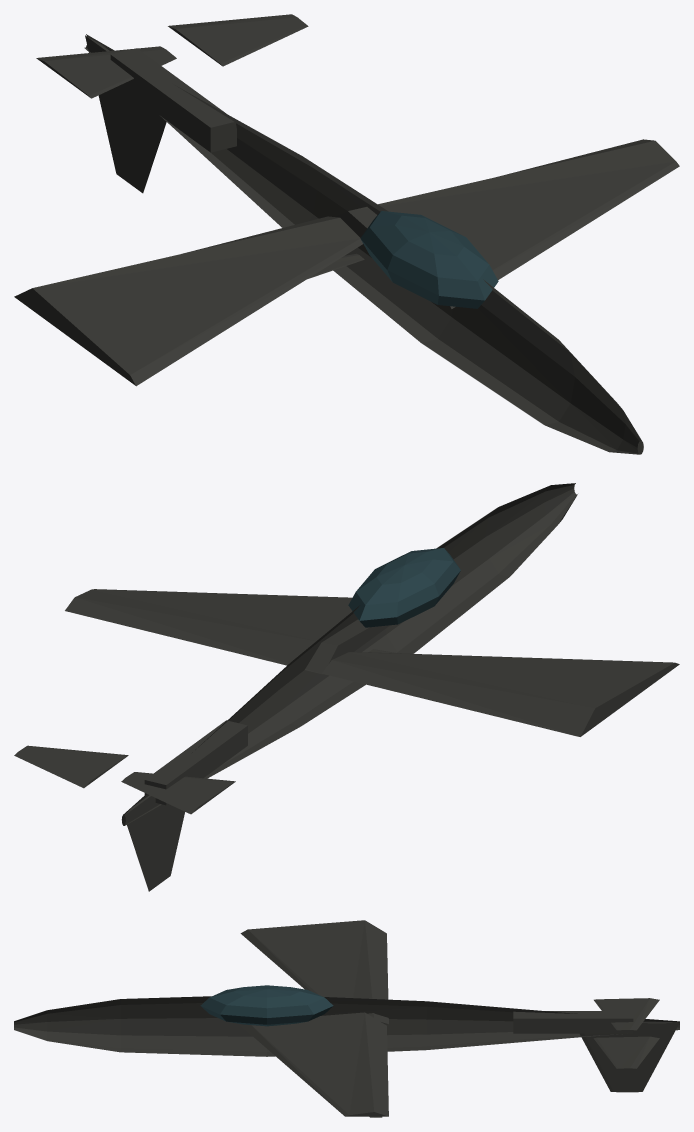
Rendered from f35_Destroyed.glb.
The picture shows the model from 3 angles, top to bottom: view 1: azimuth 30°, elevation 25°; view 2: azimuth 150°, elevation 25°; view 3: azimuth 270°, elevation 25°; orthographic projection. The views are drawn at different scales.
Parts seen in each view (by area): view 1: Fuselage, Wing_L, Wing_R, Cockpit, TailBoom, Rudder, Elevator_R, Elevator_L; view 2: Fuselage, Wing_L, Wing_R, Cockpit, Rudder, TailBoom, Elevator_R, Elevator_L; view 3: Fuselage, Wing_R, Wing_L, Cockpit, Rudder, TailBoom, Elevator_R, Elevator_L.
Part boxes in pixels (bbox=[...]): Fuselage: bbox=[84, 34, 643, 454]; Wing_L: bbox=[14, 216, 362, 386]; Wing_R: bbox=[335, 139, 679, 308]; Cockpit: bbox=[360, 211, 498, 308]; TailBoom: bbox=[110, 48, 236, 152]; Rudder: bbox=[85, 35, 166, 193]; Elevator_R: bbox=[168, 14, 308, 66]; Elevator_L: bbox=[36, 46, 176, 98]; Fuselage: bbox=[121, 483, 577, 825]; Wing_L: bbox=[322, 652, 679, 736]; Wing_R: bbox=[65, 589, 389, 674]; Cockpit: bbox=[348, 548, 460, 627]; Rudder: bbox=[124, 795, 184, 891]; TailBoom: bbox=[144, 720, 247, 805]; Elevator_R: bbox=[14, 745, 128, 788]; Elevator_L: bbox=[121, 772, 235, 814]; Fuselage: bbox=[14, 996, 679, 1056]; Wing_R: bbox=[240, 1012, 388, 1116]; Wing_L: bbox=[240, 920, 388, 1024]; Cockpit: bbox=[200, 985, 333, 1026]; Rudder: bbox=[580, 1022, 679, 1092]; TailBoom: bbox=[513, 1011, 633, 1033]; Elevator_R: bbox=[593, 1036, 659, 1068]; Elevator_L: bbox=[594, 998, 659, 1030].
Size of the model in its own units: 10.27 by 2.67 by 15.67.
